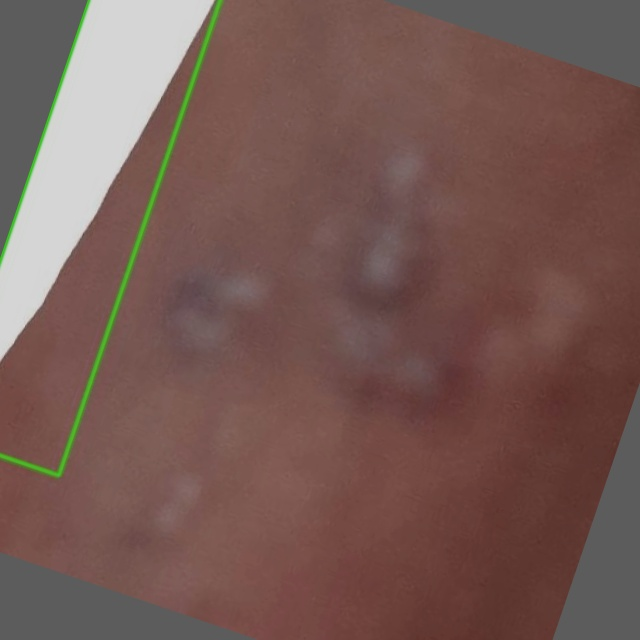Contact Dermatitis: (0, 0, 221, 476)
